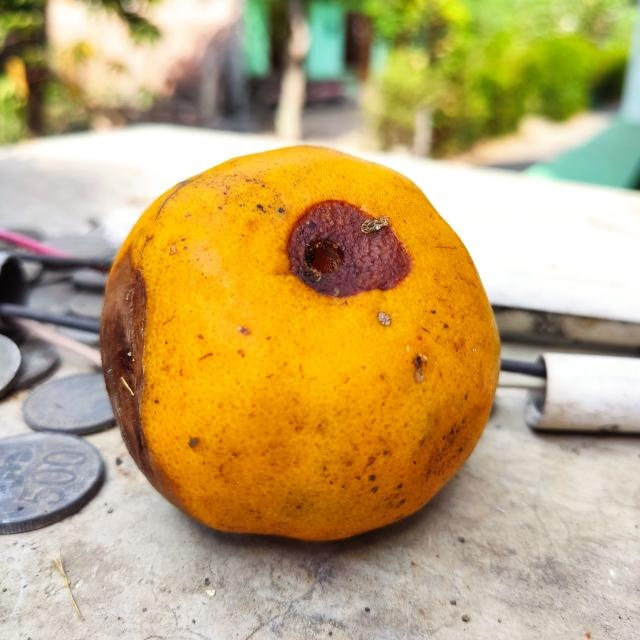agrume: (92, 141, 500, 544)
